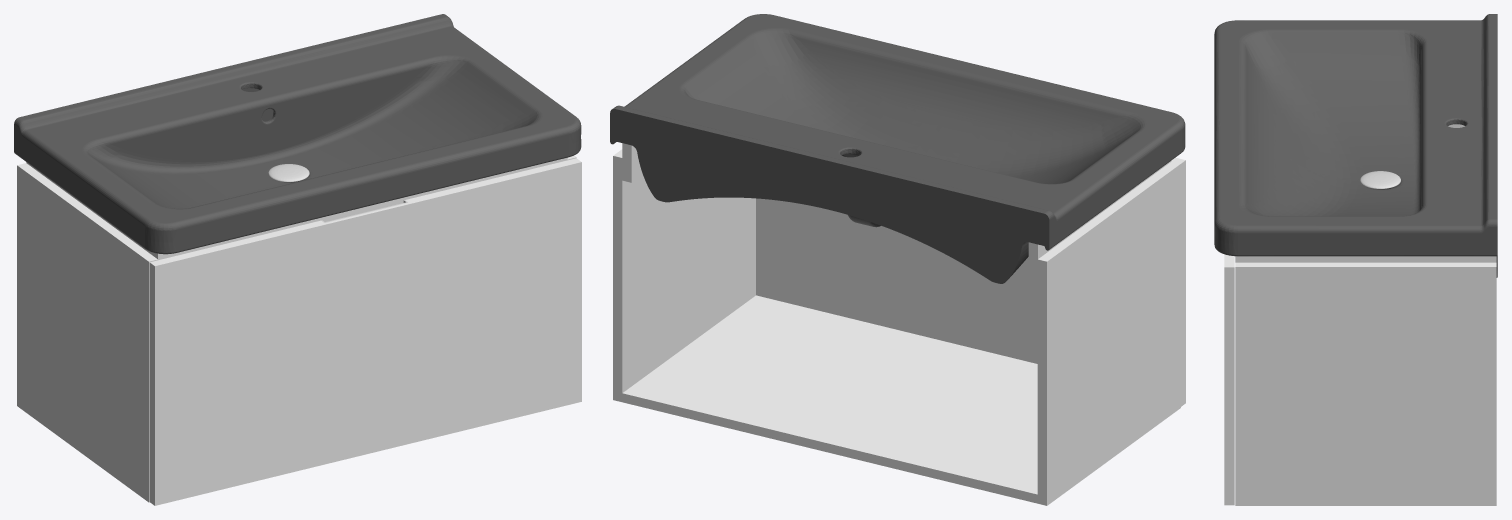
File: AEC_48030.glb
3 views of the same model, side by side, from view 1: azimuth 30°, elevation 25°; view 2: azimuth 150°, elevation 25°; view 3: azimuth 270°, elevation 25° (orthographic). The views are drawn at different scales.
Parts seen in each view (by area): view 1: 0; view 2: 0; view 3: 0.
Part boxes in pixels (x1,y1,x2,y2): 0: (14, 14, 581, 505); 0: (610, 14, 1185, 505); 0: (1214, 14, 1497, 505).
Bounding box in the file's own units: 0.85 × 0.54 × 0.485.
1 material, 1 textured.
